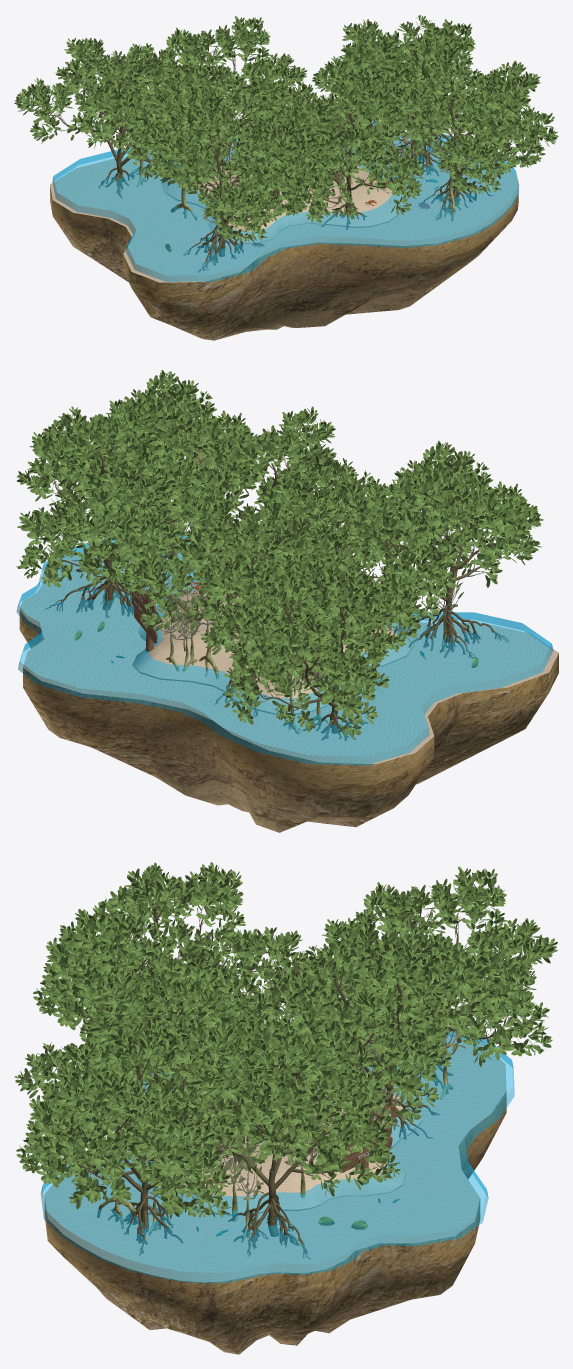
File: ref-stg3.glb
3 views of the same model, one above another, from view 1: azimuth 30°, elevation 25°; view 2: azimuth 150°, elevation 25°; view 3: azimuth 270°, elevation 25° (orthographic). The views are drawn at different scales.
Parts seen in each view (by area): view 1: ISOLOTTI_GRP_isola_03_acqua_geo_ISOLOTTI_003_GRP, ISOLOTTI_GRP_ISOLOTTI_003_GRP_isola_03_terra_geo, MI_LOD0_001.002, MI_LOD0_001.006, MI_LOD0_001.004, MI_LOD0_001.005, MI_LOD0_001.003, MI_LOD0_001.001, isola_01_terra_geo_ISOLOTTI_001_GRP_ISOLOTTI_GRP, MI_LOD0.002, MI_LOD0.008, MI_LOD0.006 (+3 smaller); view 2: ISOLOTTI_GRP_isola_03_acqua_geo_ISOLOTTI_003_GRP, ISOLOTTI_GRP_ISOLOTTI_003_GRP_isola_03_terra_geo, MI_LOD0_001.001, MI_LOD0_001.005, MI_LOD0_001.002, MI_LOD0_001.003, MI_LOD0_001.004, MI_LOD0_001.006, isola_01_terra_geo_ISOLOTTI_001_GRP_ISOLOTTI_GRP, MI_LOD0.002, MI_LOD0.001, MI_LOD0.006 (+1 smaller); view 3: ISOLOTTI_GRP_isola_03_acqua_geo_ISOLOTTI_003_GRP, ISOLOTTI_GRP_ISOLOTTI_003_GRP_isola_03_terra_geo, MI_LOD0_001.006, MI_LOD0_001.001, MI_LOD0_001.003, MI_LOD0_001.002, MI_LOD0_001.005, MI_LOD0_001.004, isola_01_terra_geo_ISOLOTTI_001_GRP_ISOLOTTI_GRP, MI_LOD0.001, MI_LOD0.008, MI_LOD0.003 (+2 smaller).
Boxes of the visible parts, x1,y1,x2,y2 form: ISOLOTTI_GRP_isola_03_acqua_geo_ISOLOTTI_003_GRP: [50, 139, 518, 340]; ISOLOTTI_GRP_ISOLOTTI_003_GRP_isola_03_terra_geo: [52, 120, 518, 281]; MI_LOD0_001.002: [146, 86, 324, 241]; MI_LOD0_001.006: [387, 38, 558, 193]; MI_LOD0_001.004: [266, 77, 424, 222]; MI_LOD0_001.005: [14, 37, 196, 179]; MI_LOD0_001.003: [122, 16, 307, 156]; MI_LOD0_001.001: [312, 14, 486, 158]; isola_01_terra_geo_ISOLOTTI_001_GRP_ISOLOTTI_GRP: [161, 153, 406, 243]; MI_LOD0.002: [173, 123, 288, 272]; MI_LOD0.008: [414, 75, 532, 220]; MI_LOD0.006: [49, 69, 162, 198]; ISOLOTTI_GRP_isola_03_acqua_geo_ISOLOTTI_003_GRP: [19, 543, 558, 832]; ISOLOTTI_GRP_ISOLOTTI_003_GRP_isola_03_terra_geo: [16, 531, 553, 765]; MI_LOD0_001.001: [16, 395, 239, 587]; MI_LOD0_001.005: [200, 552, 421, 738]; MI_LOD0_001.002: [321, 440, 543, 630]; MI_LOD0_001.003: [120, 501, 369, 675]; MI_LOD0_001.004: [190, 406, 409, 597]; MI_LOD0_001.006: [42, 369, 265, 550]; isola_01_terra_geo_ISOLOTTI_001_GRP_ISOLOTTI_GRP: [132, 587, 414, 714]; MI_LOD0.002: [361, 476, 515, 658]; MI_LOD0.001: [44, 443, 195, 617]; MI_LOD0.006: [241, 578, 391, 740]; ISOLOTTI_GRP_isola_03_acqua_geo_ISOLOTTI_003_GRP: [44, 1025, 506, 1354]; ISOLOTTI_GRP_ISOLOTTI_003_GRP_isola_03_terra_geo: [41, 1023, 514, 1282]; MI_LOD0_001.006: [16, 1019, 291, 1219]; MI_LOD0_001.001: [120, 1018, 400, 1196]; MI_LOD0_001.003: [242, 917, 485, 1123]; MI_LOD0_001.002: [33, 862, 312, 1036]; MI_LOD0_001.005: [322, 866, 557, 1067]; MI_LOD0_001.004: [14, 965, 288, 1128]; isola_01_terra_geo_ISOLOTTI_001_GRP_ISOLOTTI_GRP: [137, 1091, 422, 1215]; MI_LOD0.001: [205, 1055, 376, 1259]; MI_LOD0.008: [63, 1045, 242, 1255]; MI_LOD0.003: [287, 946, 453, 1139].
Bounding box in the file's own units: 0.7407 × 0.4785 × 0.6234.
15 materials, 14 textured.
